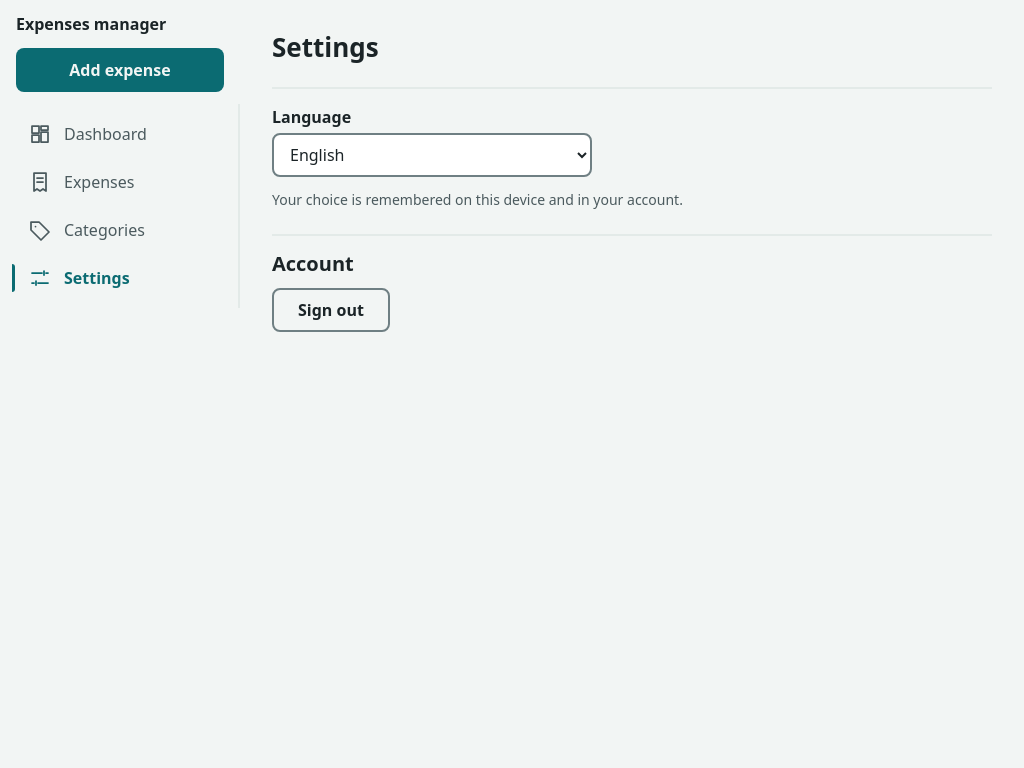
Test: AppLayout (rendered through the app root) › opens the same sheet from the header button
This screenshot has width=1024, height=768.
Click the button "Add expense": [120, 70] box [16,48,224,92]
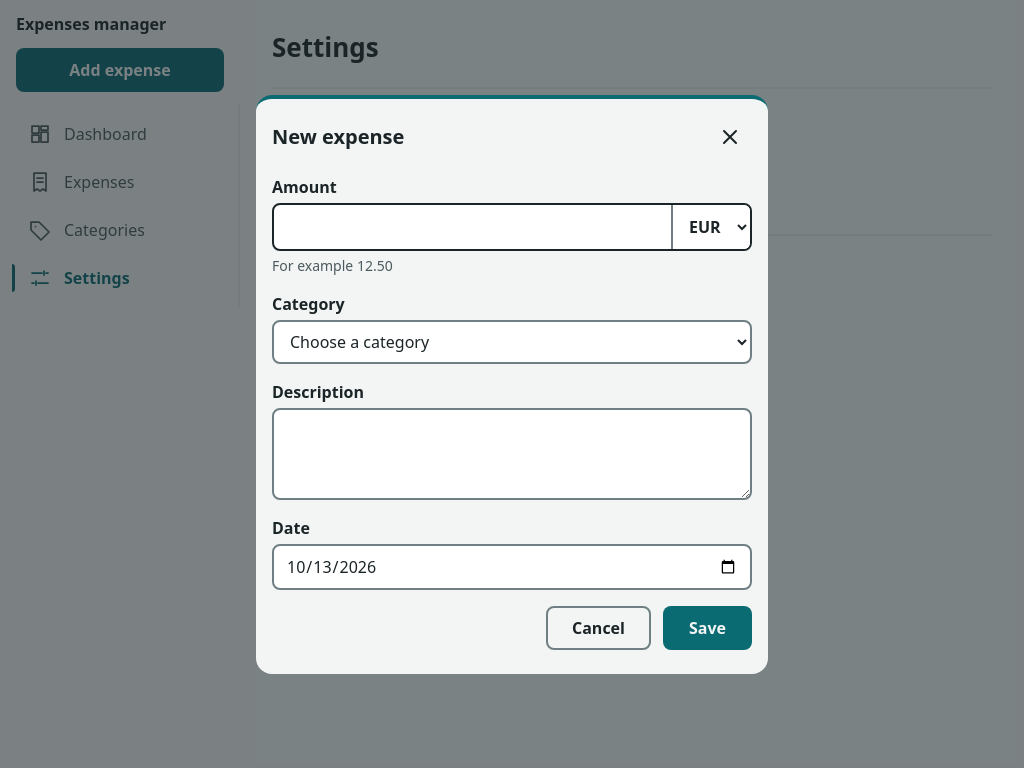
Expected: the dialog is shown, [256,94,768,674]
